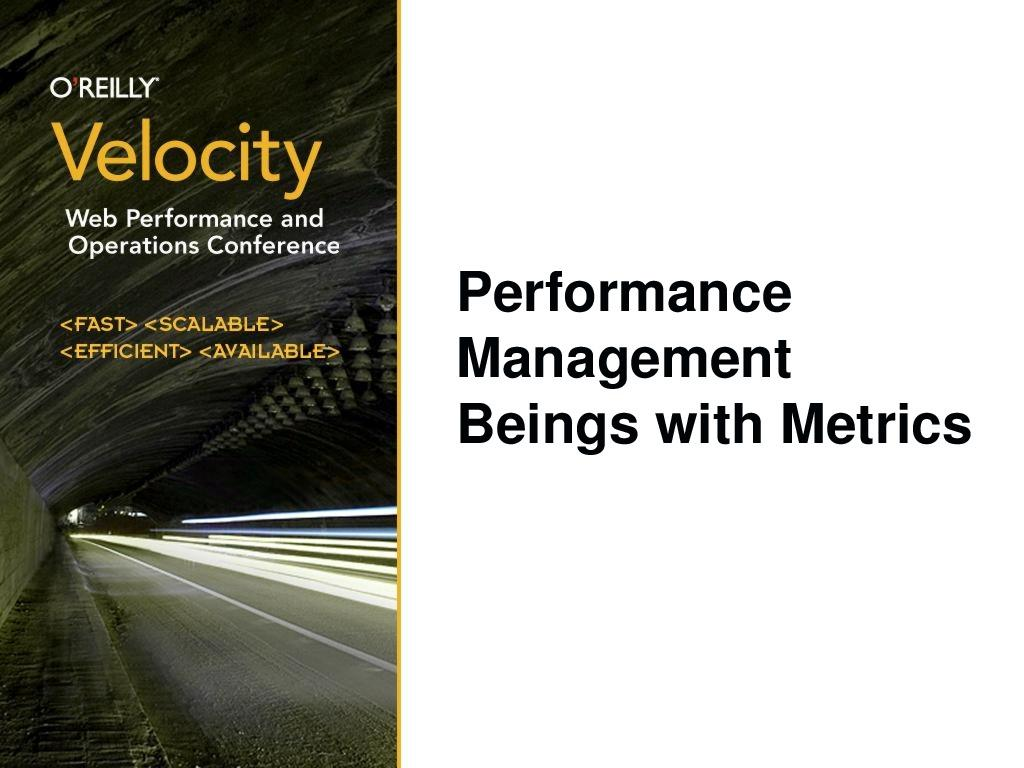title: (433, 239, 1003, 469)
